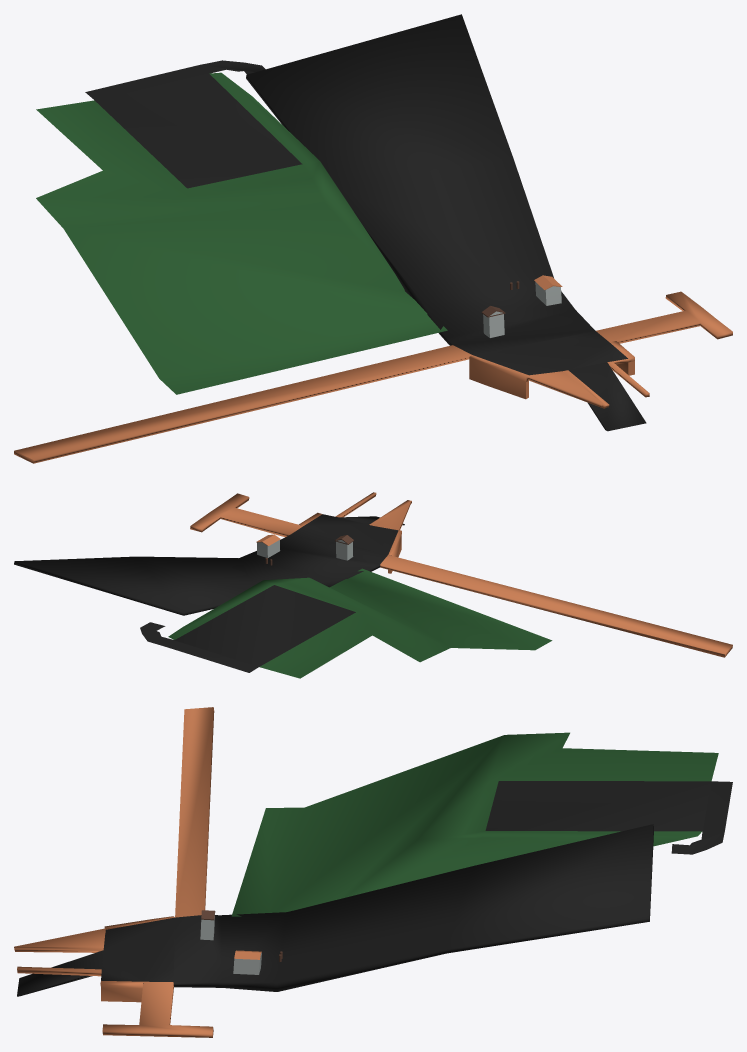
File: isoboatramp.glb
3 renders of one model, top to bottom at view 1: azimuth 30°, elevation 25°; view 2: azimuth 150°, elevation 25°; view 3: azimuth 270°, elevation 25°, orthographic. The views are drawn at different scales.
Visible parts, largest first — view 1: Boat Launch.006; view 2: Boat Launch.006; view 3: Boat Launch.006.
Boxes of the visible parts, x1,y1,x2,y2 form: Boat Launch.006: (14,14,732,463); Boat Launch.006: (14,492,732,678); Boat Launch.006: (14,707,732,1037).
Bounding box in the file's own units: 1.38 × 0.2861 × 1.3.
